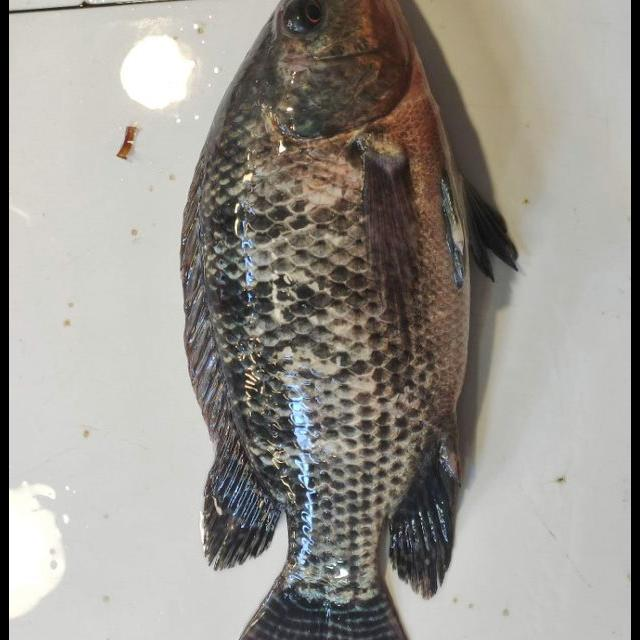fish: (177, 0, 507, 640)
